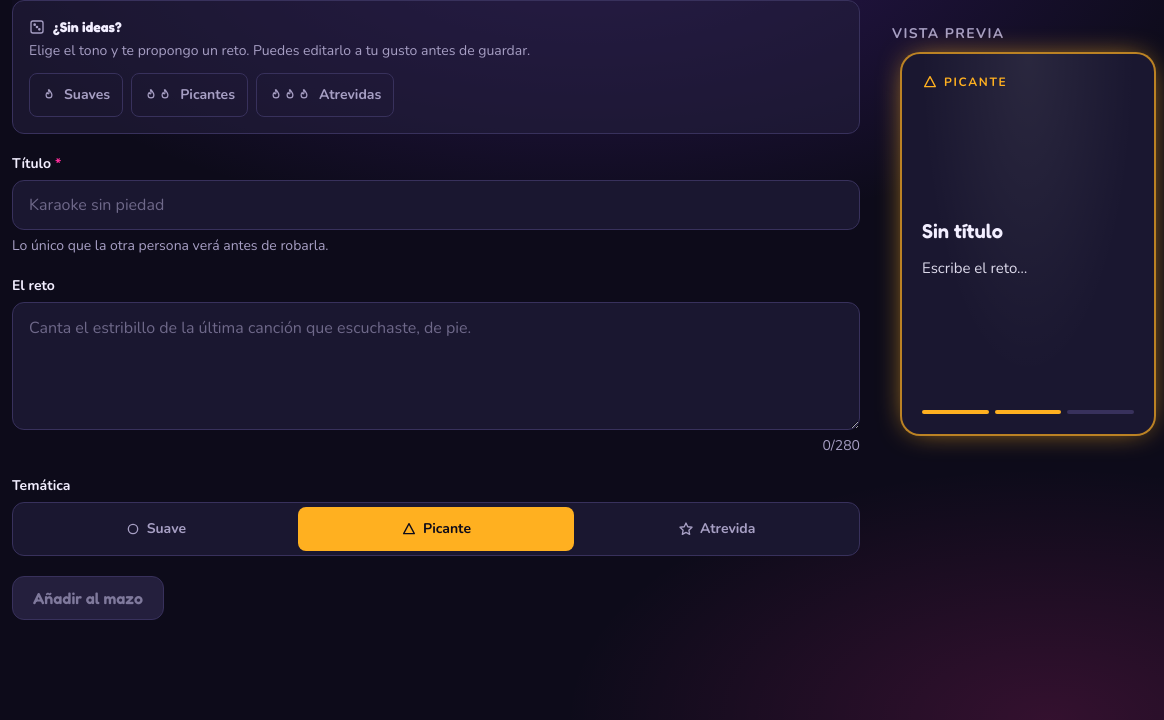
Scenario: CardEditor › refleja en la vista previa lo que se escribe
Type "Karaoke" into the field labelled "Título*". click: (436, 205)
box: [12, 180, 860, 230]
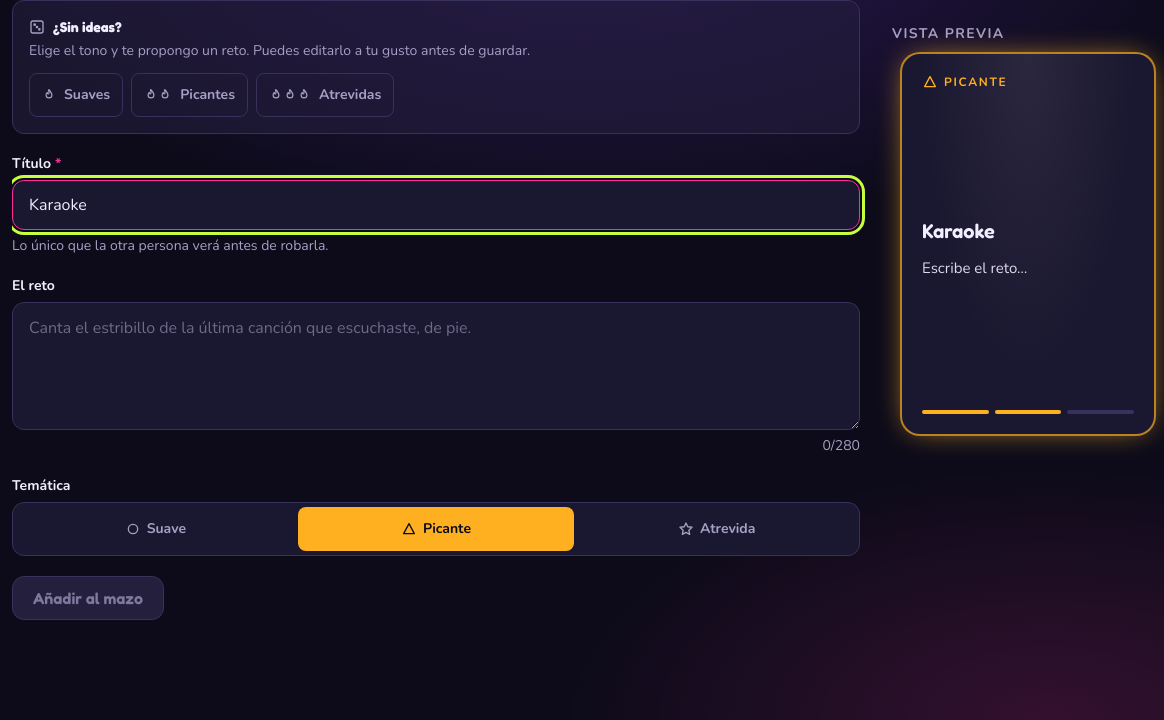
Expected: the element with test id "preview" shows "Karaoke", [922, 219, 995, 243]
